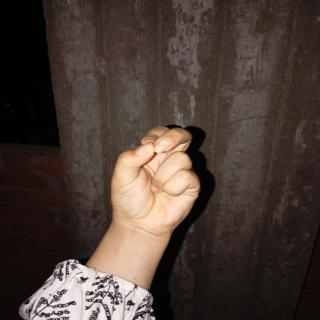QAAF: (101, 117, 213, 245)
